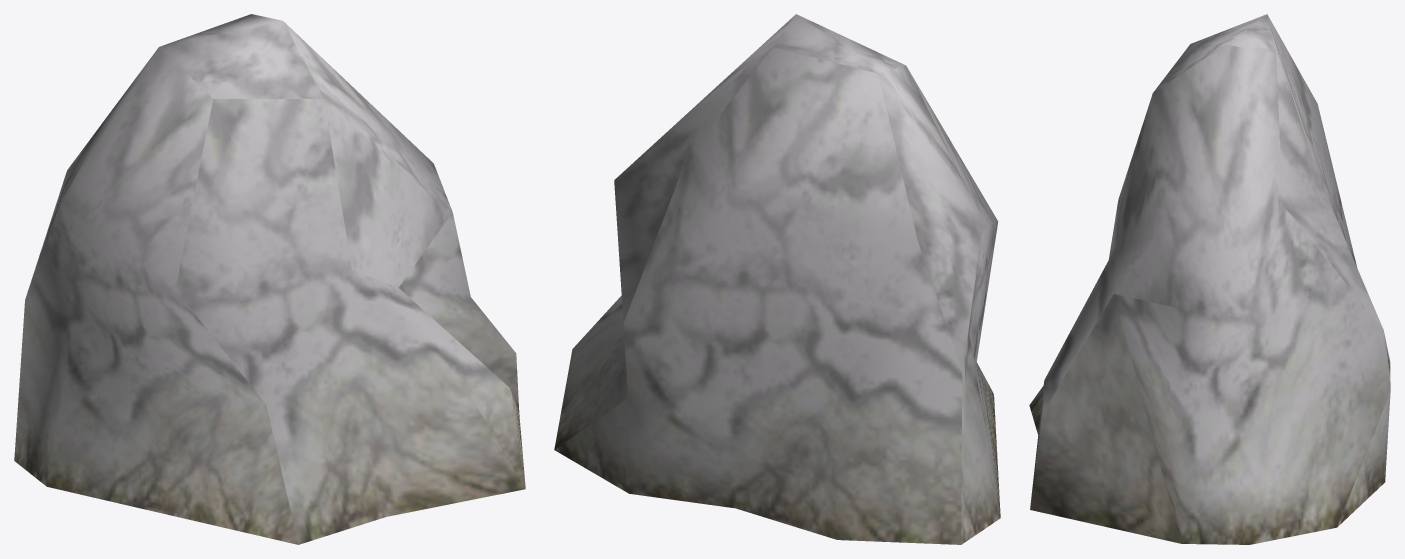
Rendered from general_obj_bigstone07_lod_01.glb.
3 views of the same model, side by side, from view 1: azimuth 30°, elevation 25°; view 2: azimuth 150°, elevation 25°; view 3: azimuth 270°, elevation 25° (orthographic). The views are drawn at different scales.
Parts seen in each view (by area): view 1: Sphere01fs; view 2: Sphere01fs; view 3: Sphere01fs.
Boxes of the visible parts, x1,y1,x2,y2 form: Sphere01fs: (14,14,525,544); Sphere01fs: (554,14,1000,544); Sphere01fs: (1029,14,1390,544).
Size of the model in its own units: 12.68 by 11.95 by 9.73.
1 material, 1 textured.
